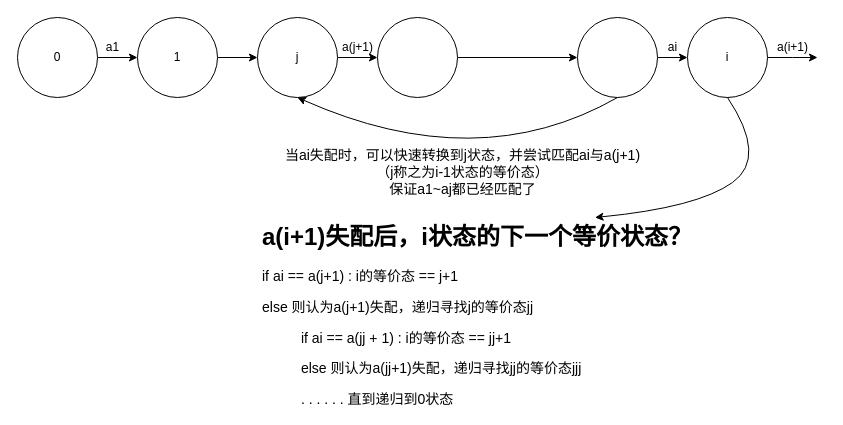
The diagram is 843 pixels wide and 425 high, and some of its shapes have lost their labels. The box of each missing label's shape, as (x1, y1, x2, y2) in pixels:
i-1: (576, 16, 658, 98)
j+1: (376, 16, 458, 98)
